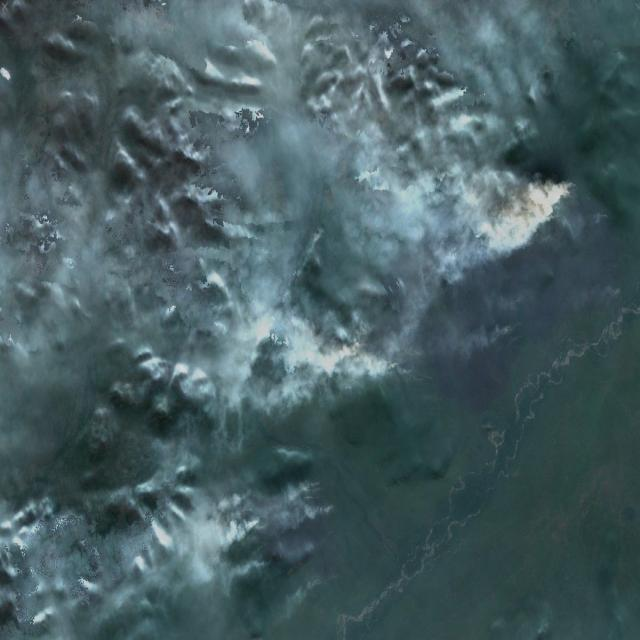fire: (545, 170, 580, 223), (388, 333, 416, 391), (307, 470, 333, 531), (505, 293, 524, 355), (249, 498, 266, 550), (309, 568, 332, 596)
